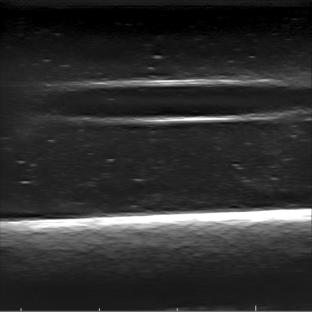vessel: (55, 76, 311, 125)
